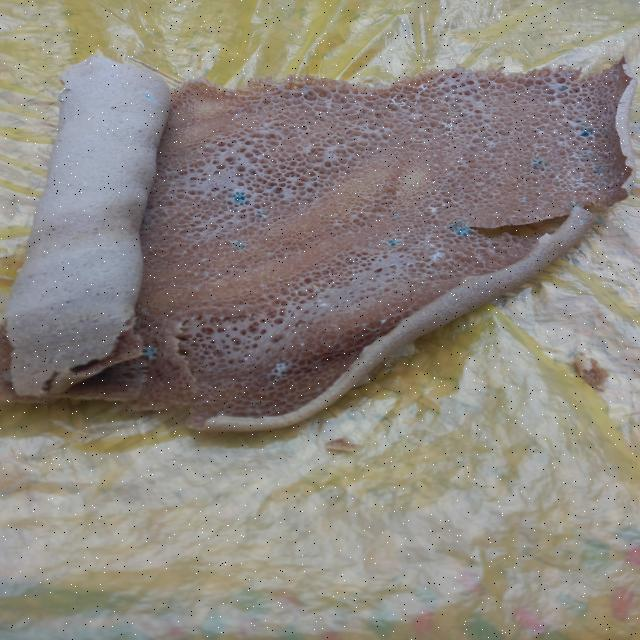injera_mold: (559, 174, 591, 193), (263, 360, 292, 380), (438, 120, 464, 142), (388, 94, 414, 110), (448, 221, 474, 236), (574, 125, 596, 142), (137, 344, 160, 360), (230, 187, 250, 204), (428, 251, 448, 265), (384, 237, 403, 249), (233, 238, 247, 254), (530, 155, 545, 168), (254, 207, 266, 219), (592, 166, 606, 176), (520, 195, 532, 206), (426, 204, 440, 213), (610, 68, 620, 79), (567, 201, 579, 210), (316, 299, 326, 308), (580, 219, 587, 231), (572, 118, 586, 124), (392, 210, 401, 219), (378, 317, 388, 325), (559, 84, 569, 92), (536, 144, 549, 150), (602, 150, 614, 156), (595, 183, 603, 191), (419, 84, 427, 92), (299, 341, 307, 348), (242, 356, 251, 362), (353, 179, 366, 183), (581, 151, 589, 157), (596, 120, 604, 126), (536, 130, 545, 135), (144, 93, 151, 99), (604, 128, 612, 133), (394, 146, 402, 151), (616, 178, 622, 183), (595, 177, 609, 179), (429, 244, 436, 248), (297, 323, 302, 328), (621, 172, 624, 179), (375, 244, 380, 248), (486, 143, 490, 148), (515, 142, 521, 145), (609, 170, 613, 174), (374, 233, 378, 237), (563, 150, 568, 153), (419, 113, 422, 118), (562, 167, 566, 169), (418, 243, 422, 245)
